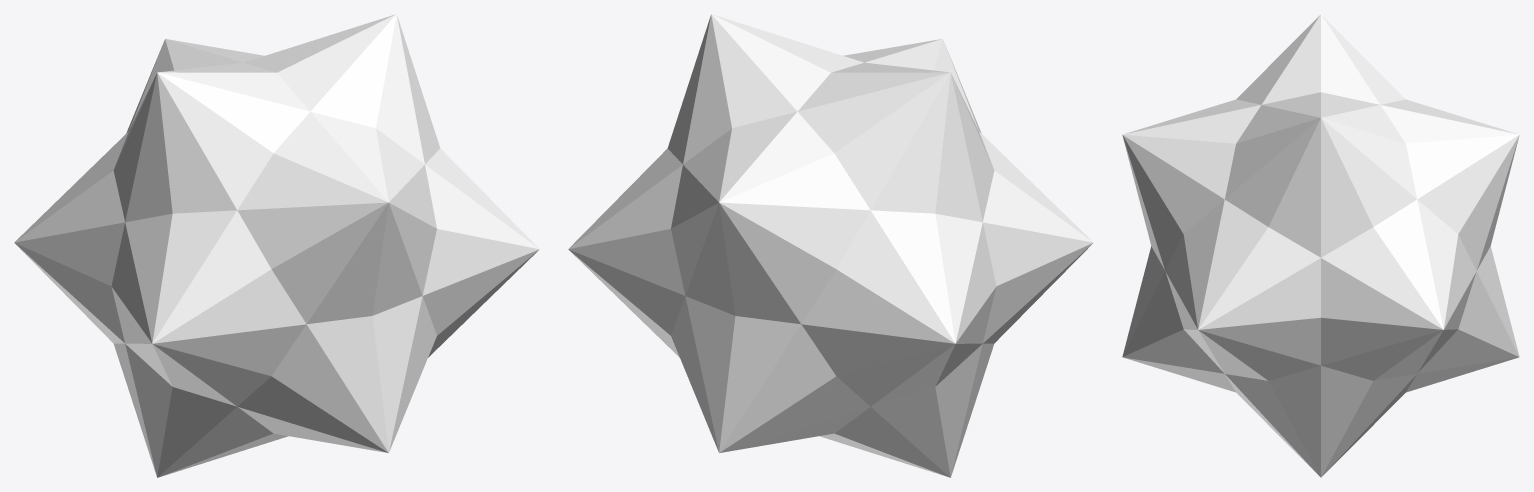
File: small-dodecacronic-hexecontahedron.gltf
The picture shows the model from 3 angles, left to right: view 1: azimuth 30°, elevation 25°; view 2: azimuth 150°, elevation 25°; view 3: azimuth 270°, elevation 25°; orthographic projection. The views are drawn at different scales.
Parts seen in each view (by area): view 1: Small Dodecacronic Hexecontahedron (Dual of 5.10.3/2.10), WD; view 2: Small Dodecacronic Hexecontahedron (Dual of 5.10.3/2.10), WD; view 3: Small Dodecacronic Hexecontahedron (Dual of 5.10.3/2.10), WD.
Part boxes in pixels (left/top/right/bottom): Small Dodecacronic Hexecontahedron (Dual of 5.10.3/2.10), WD: left=14, top=14, right=539, bottom=477; Small Dodecacronic Hexecontahedron (Dual of 5.10.3/2.10), WD: left=568, top=14, right=1093, bottom=477; Small Dodecacronic Hexecontahedron (Dual of 5.10.3/2.10), WD: left=1122, top=14, right=1519, bottom=477.
Bounding box in the file's own units: 32.49 × 32.49 × 32.49.
Materials: 1 (1 with a texture image).
